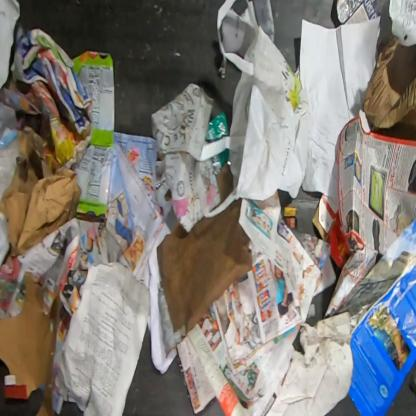cardboard: (0, 271, 60, 415), (72, 49, 115, 216), (363, 34, 415, 130)
metal: (336, 0, 365, 24)
soft_plastic: (194, 0, 310, 219), (205, 111, 230, 143)
